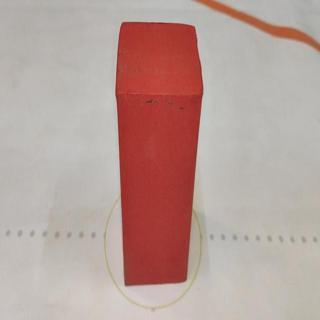redbox: (113, 18, 205, 288)
